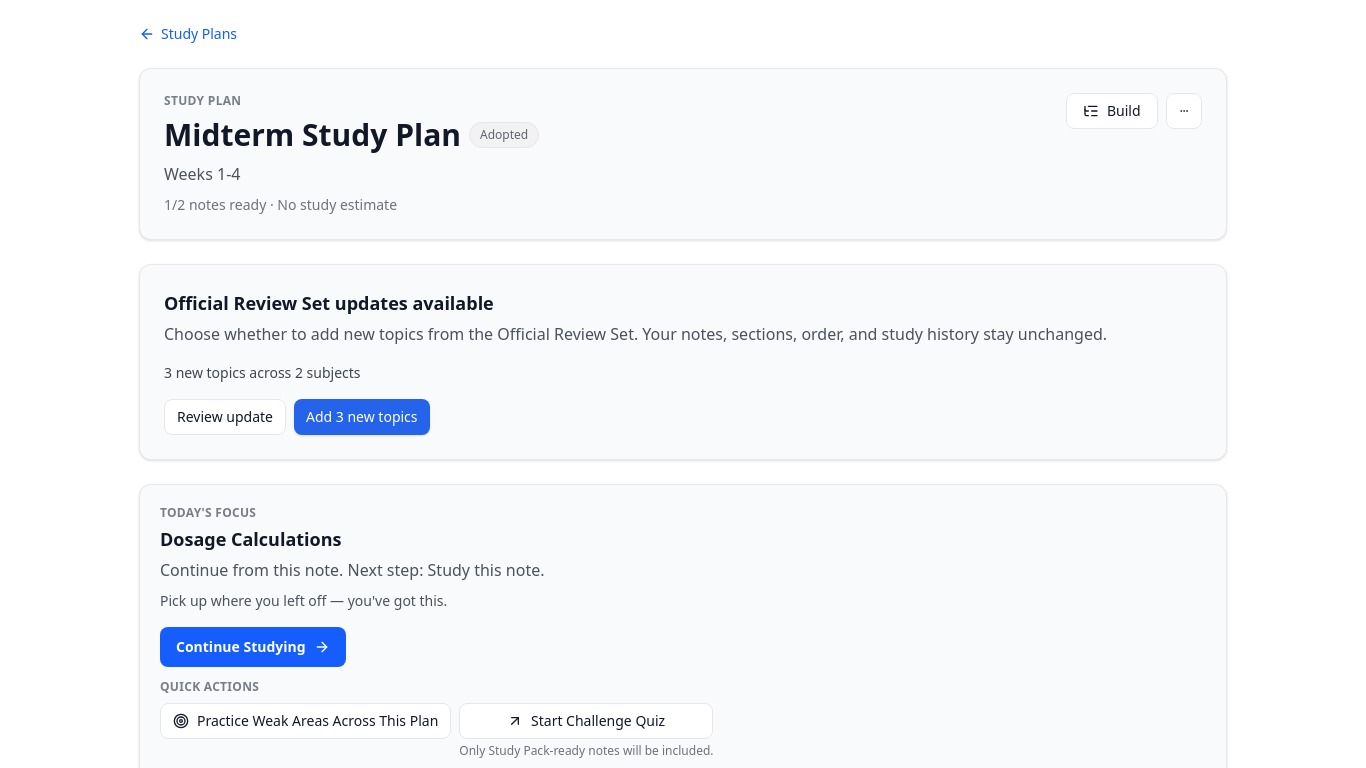
Test: CollectionDetailPageClient › counts only added notes in the action label and groups them by Subject Plan
expect the button "Add 3 new topics" is shown: met, box left=294, top=399, right=430, bottom=435
expect the list item "3 new topics across 2 subjects" is shown: met, box left=164, top=363, right=361, bottom=382
Click the button "Review update". click: click(225, 417)
box: left=164, top=399, right=286, bottom=435
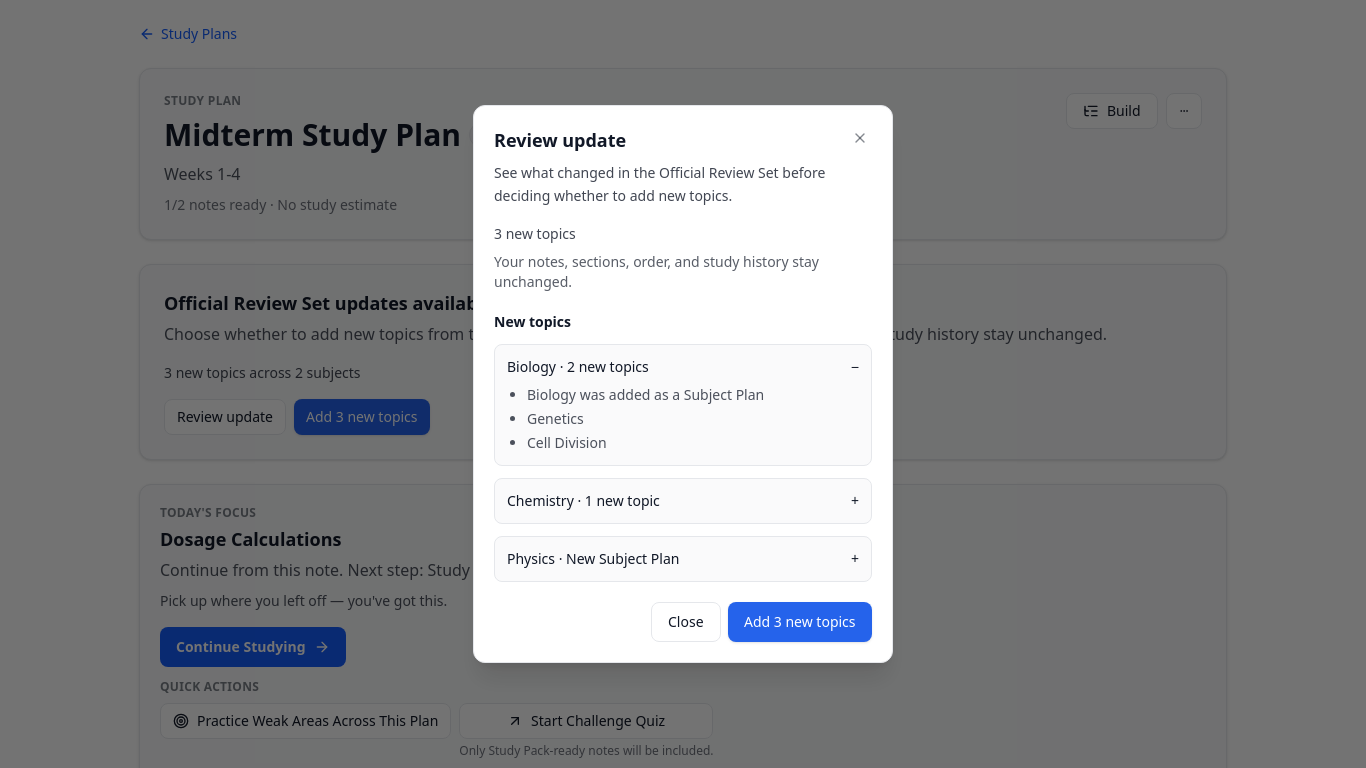
expect the text "Organic Chemistry" is not shown: met
expect the button "Physics · New Subject Plan +" is shown: met, box left=507, top=549, right=859, bottom=569
Click the button "Chemistry · 1 new topic +". click: click(583, 500)
box: left=507, top=491, right=859, bottom=511
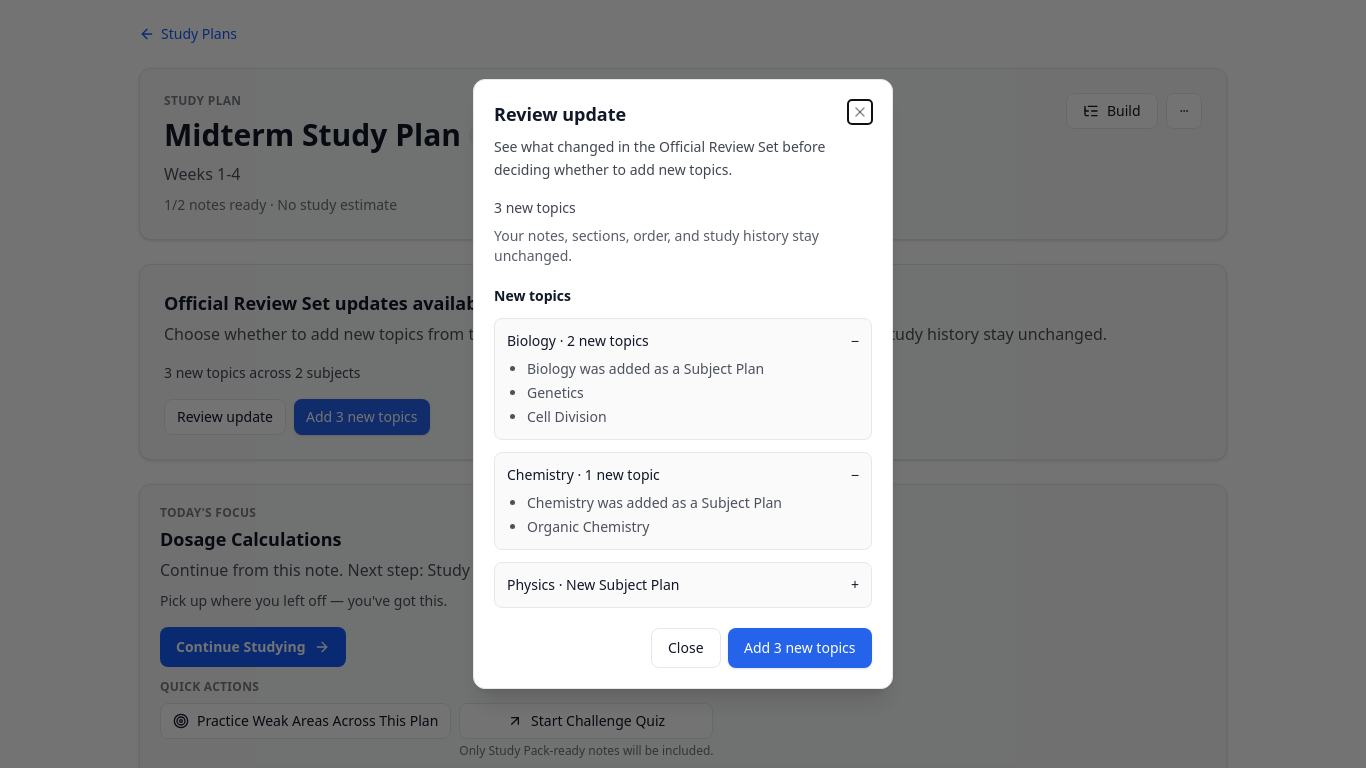
expect the list item "Organic Chemistry" is shown: met, box left=527, top=517, right=650, bottom=536
